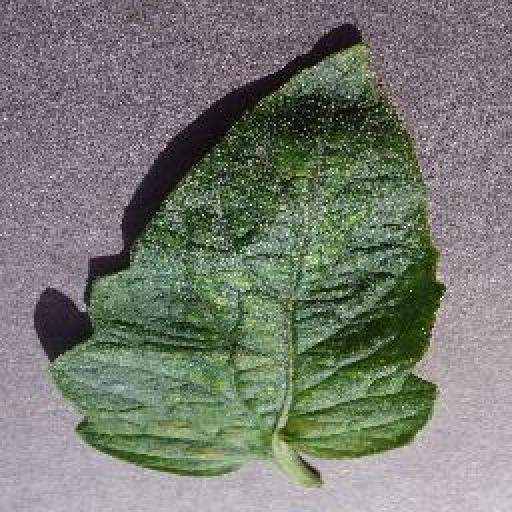Spider Mites: (50, 36, 436, 477)
